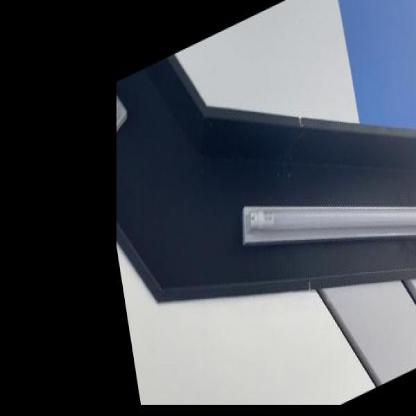light_off: (233, 85, 416, 361)
